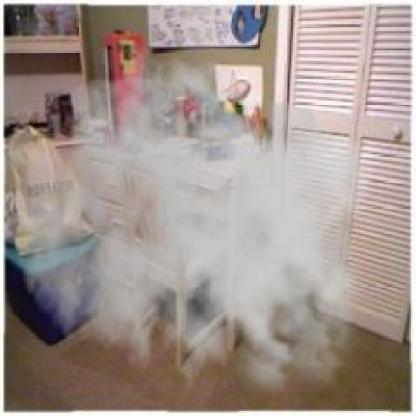Smoke: (17, 47, 382, 412)
